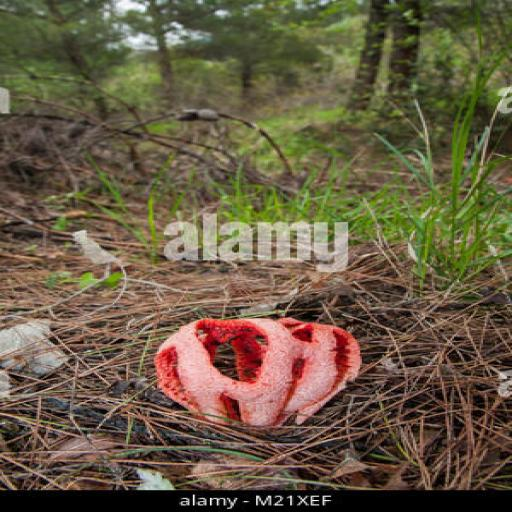Red Cage Fungus: (146, 312, 363, 433)
